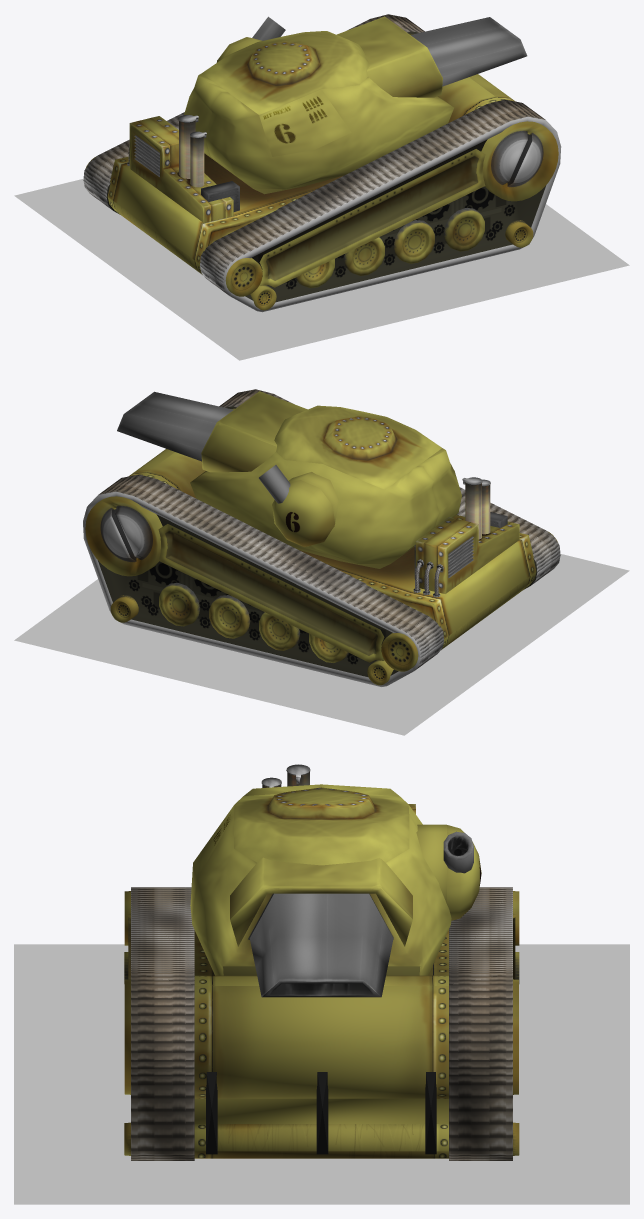
File: tank.obj
3 views of the same model, one above another, from view 1: azimuth 30°, elevation 25°; view 2: azimuth 150°, elevation 25°; view 3: azimuth 270°, elevation 25° (orthographic). The views are drawn at different scales.
Visible parts, largest first — view 1: Cube.003, Cube.001_Cube.000, Plane, Cube.002, Cube.000_Cube.012, Sphere, Plane.001_Plane.002; view 2: Cube.000_Cube.012, Cube.003, Plane, Cube.002, Sphere, Cube.001_Cube.000, Plane.001_Plane.002; view 3: Plane, Cube.003, Cube.002, Cube.001_Cube.000, Cube.000_Cube.012, Sphere, Cube.006_Cube.011.
Part boxes in pixels (x1=…): Cube.003: x1=127, y1=16, x2=527, y2=222; Cube.001_Cube.000: x1=200, y1=99, x2=561, y2=312; Plane: x1=14, y1=178, x2=629, y2=360; Cube.002: x1=107, y1=33, x2=515, y2=274; Cube.000_Cube.012: x1=83, y1=14, x2=424, y2=214; Sphere: x1=216, y1=16, x2=285, y2=62; Plane.001_Plane.002: x1=134, y1=135, x2=159, y2=176; Cube.000_Cube.012: x1=83, y1=474, x2=443, y2=686; Cube.003: x1=117, y1=391, x2=519, y2=597; Plane: x1=14, y1=554, x2=629, y2=735; Cube.002: x1=128, y1=408, x2=536, y2=649; Sphere: x1=258, y1=465, x2=338, y2=546; Cube.001_Cube.000: x1=219, y1=389, x2=560, y2=589; Plane.001_Plane.002: x1=448, y1=536, x2=473, y2=577; Plane: x1=14, y1=944, x2=629, y2=1204; Cube.003: x1=190, y1=764, x2=451, y2=997; Cube.002: x1=194, y1=929, x2=448, y2=1158; Cube.001_Cube.000: x1=124, y1=887, x2=194, y2=1160; Cube.000_Cube.012: x1=449, y1=887, x2=519, y2=1160; Sphere: x1=416, y1=824, x2=481, y2=920; Cube.006_Cube.011: x1=206, y1=1072, x2=436, y2=1154.
Size of the model in its own units: 2.75 by 1.27 by 2.75.
